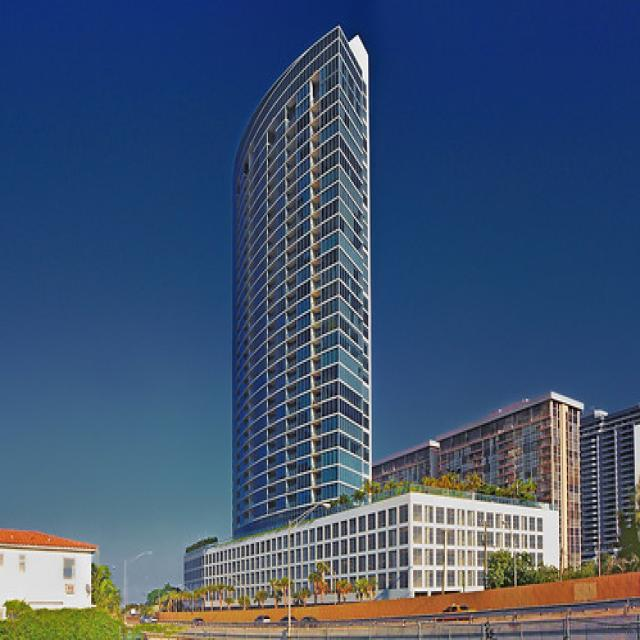building: (222, 15, 378, 527)
